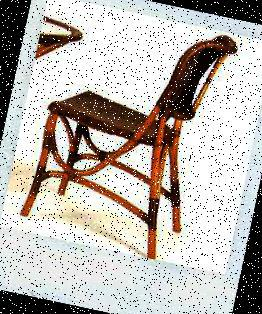Silla: (14, 0, 243, 272)
